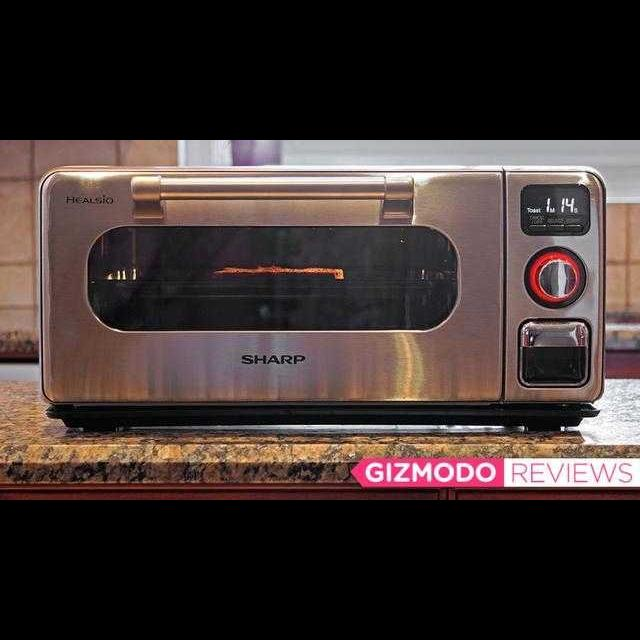Oven: (37, 168, 599, 428)
